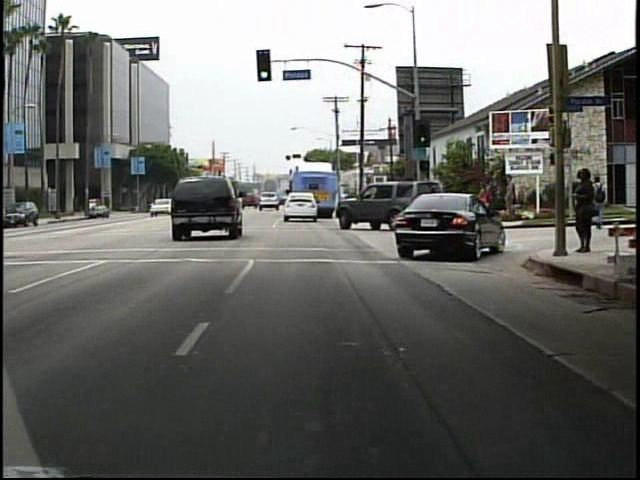person: (566, 163, 593, 257), (590, 171, 608, 232), (500, 174, 518, 222), (476, 177, 496, 206)
